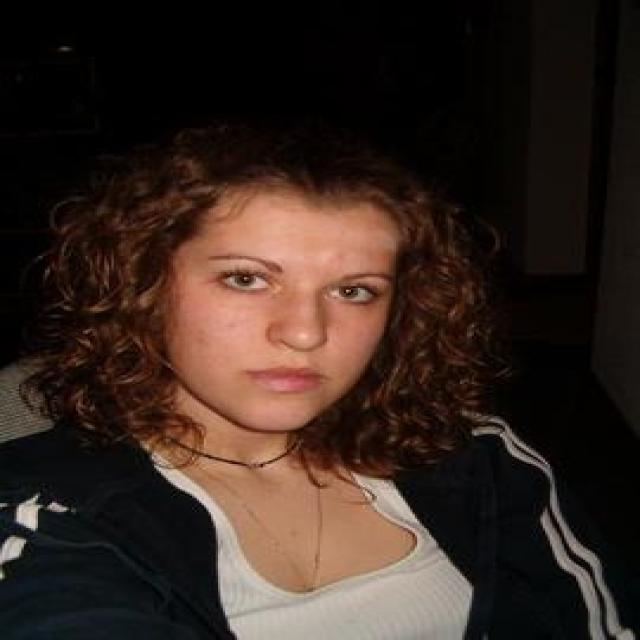person: (1, 126, 639, 640)
